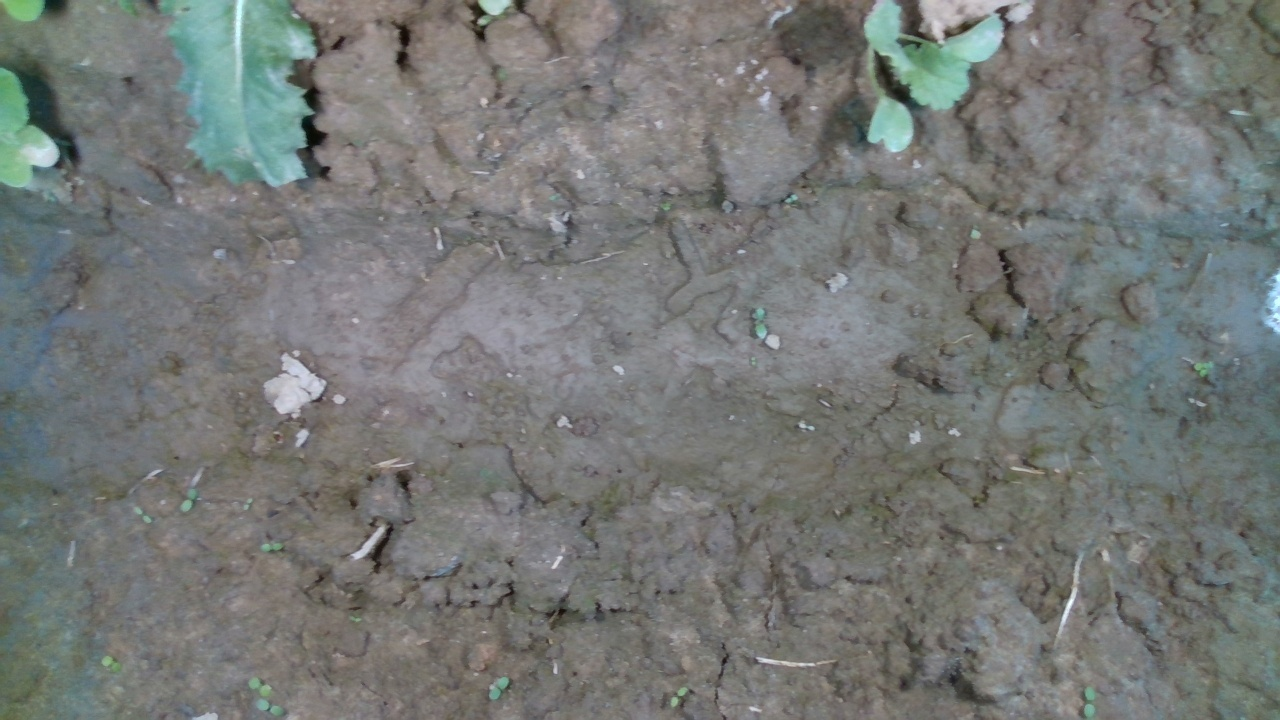weed: (665, 682, 695, 715), (747, 304, 771, 340), (488, 674, 514, 704), (1193, 357, 1227, 378), (178, 486, 195, 515), (129, 505, 153, 525), (259, 534, 285, 550), (783, 188, 803, 202)
